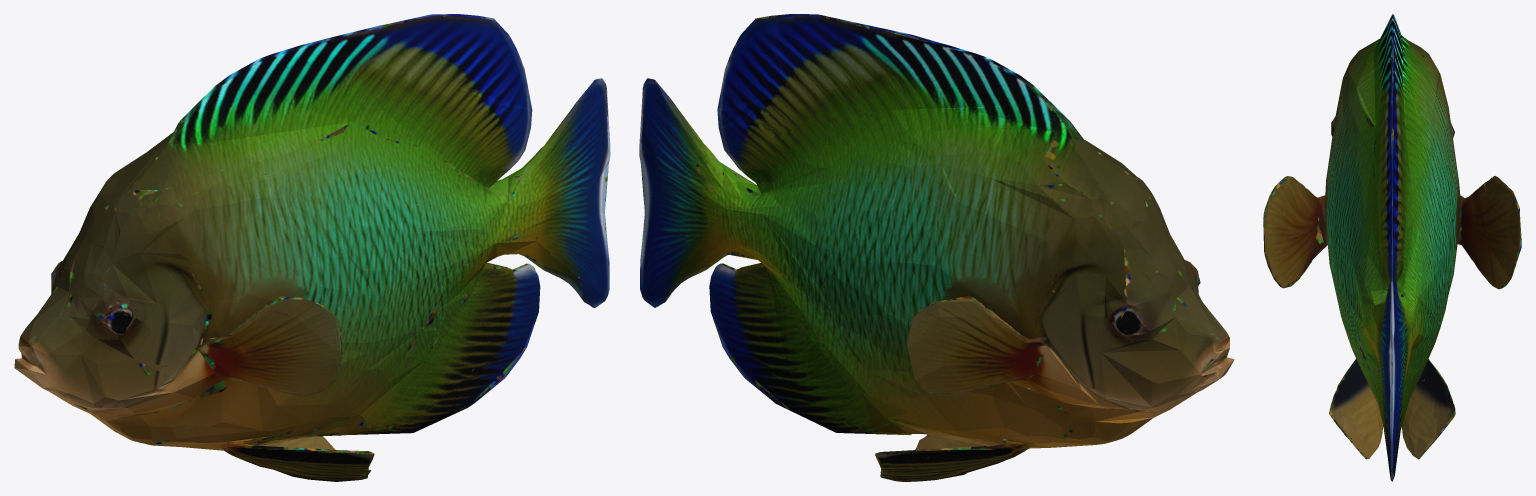
File: fish_0050_smpl23_resized.glb
3 renders of one model, left to right at view 1: azimuth 30°, elevation 25°; view 2: azimuth 150°, elevation 25°; view 3: azimuth 270°, elevation 25°, orthographic. The views are drawn at different scales.
Parts seen in each view (by area): view 1: world; view 2: world; view 3: world.
Boxes of the visible parts, x1,y1,x2,y2 form: world: (14, 14, 610, 481); world: (639, 14, 1234, 481); world: (1263, 14, 1521, 481).
Bounding box in the file's own units: 1.99 × 1.41 × 0.8185.
1 material, 1 textured.
